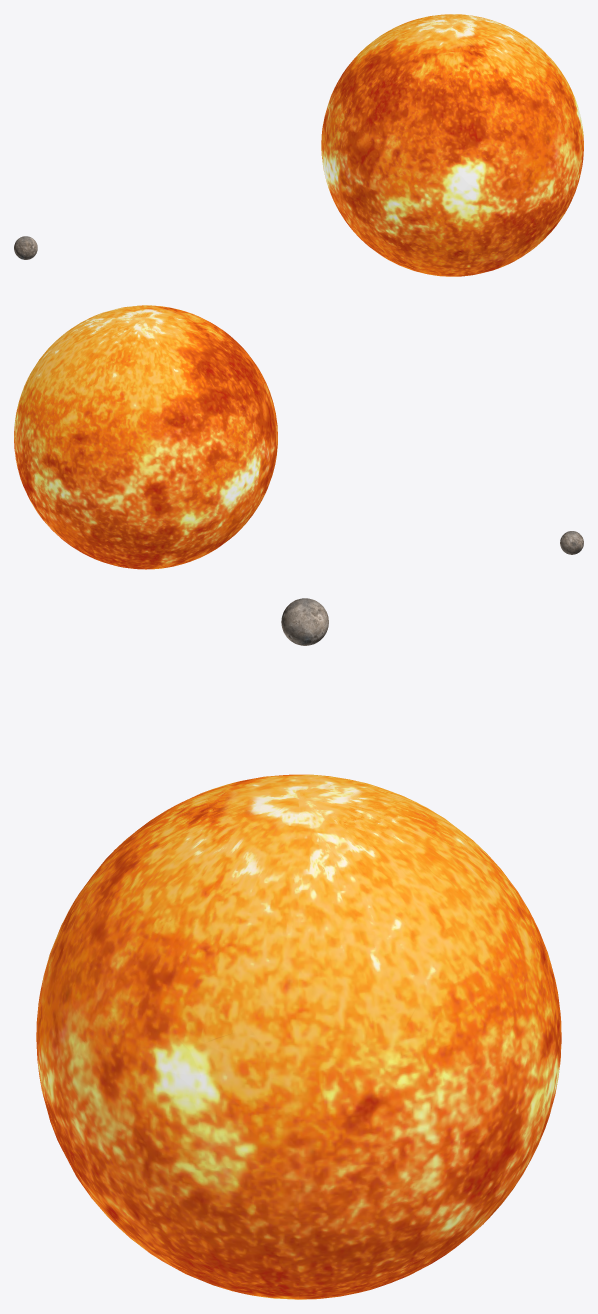
File: transitLightCurve.glb
3 renders of one model, top to bottom at view 1: azimuth 30°, elevation 25°; view 2: azimuth 150°, elevation 25°; view 3: azimuth 270°, elevation 25°, orthographic. The views are drawn at different scales.
Visible parts, largest first — view 1: Sun, Sphere.002; view 2: Sun, Sphere.002; view 3: Sun, Sphere.002.
Boxes of the visible parts, x1,y1,x2,y2 form: Sun: (321, 14, 583, 276); Sphere.002: (14, 236, 37, 259); Sun: (14, 305, 277, 569); Sphere.002: (560, 531, 583, 554); Sun: (36, 774, 561, 1299); Sphere.002: (281, 598, 328, 645).
Bounding box in the file's own units: 11.05 × 4.58 × 4.58.
Materials: 2 (2 with a texture image).
